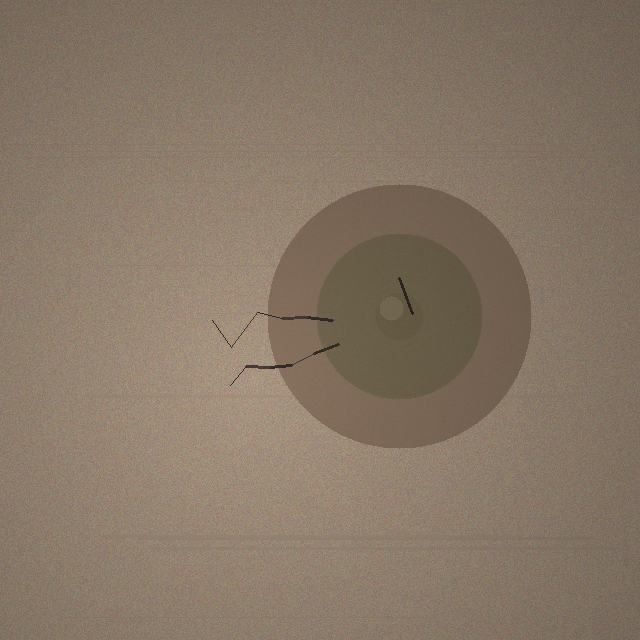crack: (267, 184, 531, 448)
